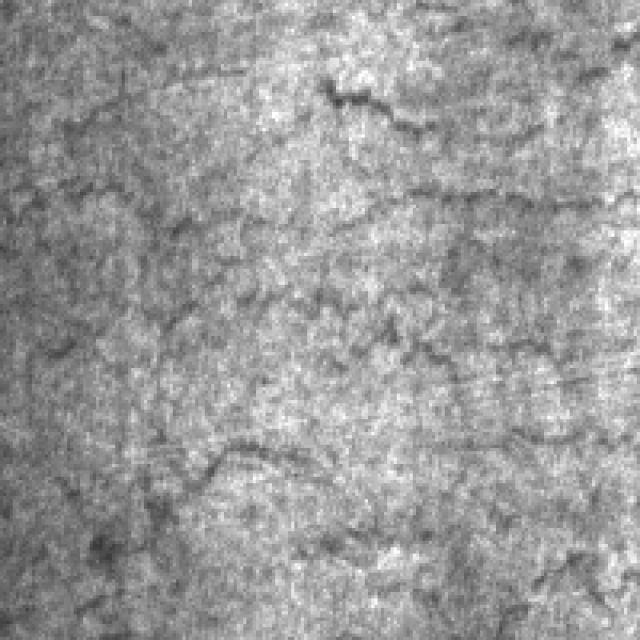crazing: (22, 240, 637, 528), (179, 13, 634, 230)
